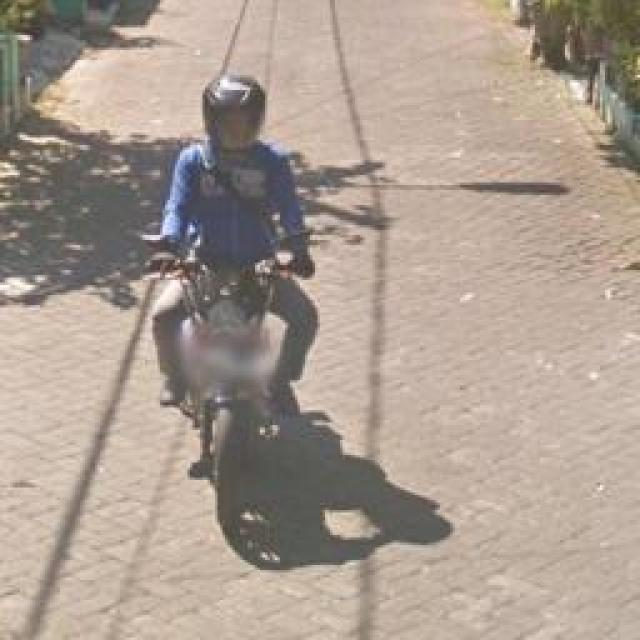motorbike: (154, 75, 327, 573)
